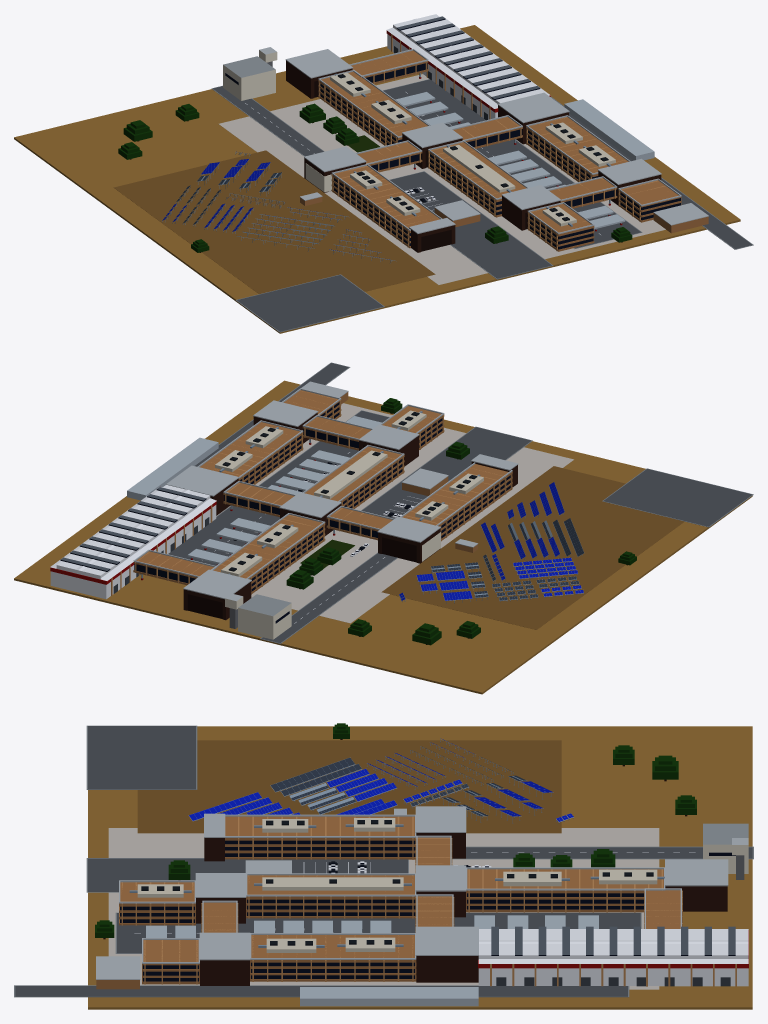
Rendered from factory_campus_3d_model.obj.
3 views of the same model, one above another, from view 1: azimuth 30°, elevation 25°; view 2: azimuth 150°, elevation 25°; view 3: azimuth 270°, elevation 25° (orthographic). The views are drawn at different scales.
Visible parts, largest first — view 1: mat_terrain_meadow, mat_solar_earth_pad, mat_wing_sandstone, mat_asphalt_road, mat_roof_parapet, mat_walkway_apron, mat_window_glass, mat_ind_white, mat_carport_roof, mat_wing_pilaster, mat_roof_hvac, mat_core_brick (+9 smaller); view 2: mat_terrain_meadow, mat_solar_earth_pad, mat_wing_sandstone, mat_asphalt_road, mat_roof_parapet, mat_walkway_apron, mat_ind_white, mat_window_glass, mat_carport_roof, mat_roof_hvac, mat_wing_pilaster, mat_solar_blue (+11 smaller); view 3: mat_terrain_meadow, mat_wing_sandstone, mat_solar_earth_pad, mat_asphalt_road, mat_roof_parapet, mat_ind_white, mat_window_glass, mat_walkway_apron, mat_roof_hvac, mat_carport_roof, mat_core_brick, mat_wing_pilaster (+12 smaller).
Part boxes in pixels (bbox=[...]): mat_terrain_meadow: bbox=[14, 25, 740, 333]; mat_solar_earth_pad: bbox=[114, 150, 435, 294]; mat_wing_sandstone: bbox=[300, 50, 708, 251]; mat_asphalt_road: bbox=[213, 79, 752, 331]; mat_roof_parapet: bbox=[259, 47, 708, 234]; mat_walkway_apron: bbox=[219, 74, 665, 284]; mat_window_glass: bbox=[225, 18, 680, 249]; mat_ind_white: bbox=[245, 14, 600, 234]; mat_carport_roof: bbox=[395, 92, 654, 229]; mat_wing_pilaster: bbox=[318, 34, 681, 250]; mat_roof_hvac: bbox=[330, 72, 615, 226]; mat_core_brick: bbox=[286, 60, 661, 252]; mat_terrain_meadow: bbox=[14, 380, 752, 694]; mat_solar_earth_pad: bbox=[381, 466, 684, 629]; mat_wing_sandstone: bbox=[133, 390, 512, 593]; mat_asphalt_road: bbox=[168, 363, 752, 642]; mat_roof_parapet: bbox=[133, 381, 518, 601]; mat_walkway_apron: bbox=[217, 403, 573, 623]; mat_ind_white: bbox=[50, 452, 422, 623]; mat_window_glass: bbox=[60, 402, 510, 623]; mat_carport_roof: bbox=[127, 416, 381, 563]; mat_roof_hvac: bbox=[215, 410, 483, 576]; mat_wing_pilaster: bbox=[111, 391, 512, 595]; mat_solar_blue: bbox=[399, 482, 583, 600]; mat_terrain_meadow: bbox=[88, 726, 752, 1009]; mat_wing_sandstone: bbox=[96, 816, 680, 989]; mat_solar_earth_pad: bbox=[137, 740, 561, 833]; mat_asphalt_road: bbox=[15, 726, 752, 996]; mat_roof_parapet: bbox=[96, 806, 748, 979]; mat_ind_white: bbox=[134, 852, 748, 986]; mat_window_glass: bbox=[120, 840, 735, 981]; mat_walkway_apron: bbox=[108, 828, 659, 989]; mat_roof_hvac: bbox=[137, 818, 657, 952]; mat_carport_roof: bbox=[146, 915, 598, 1006]; mat_core_brick: bbox=[196, 833, 727, 985]; mat_wing_pilaster: bbox=[121, 816, 736, 986].
Bounding box in the file's own units: 321 × 20.7 × 356.
